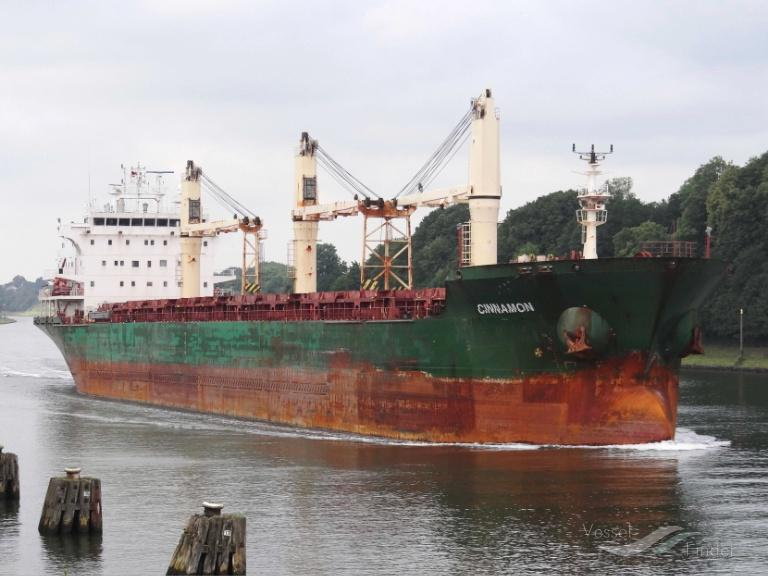OCR: (475, 292, 537, 320)
